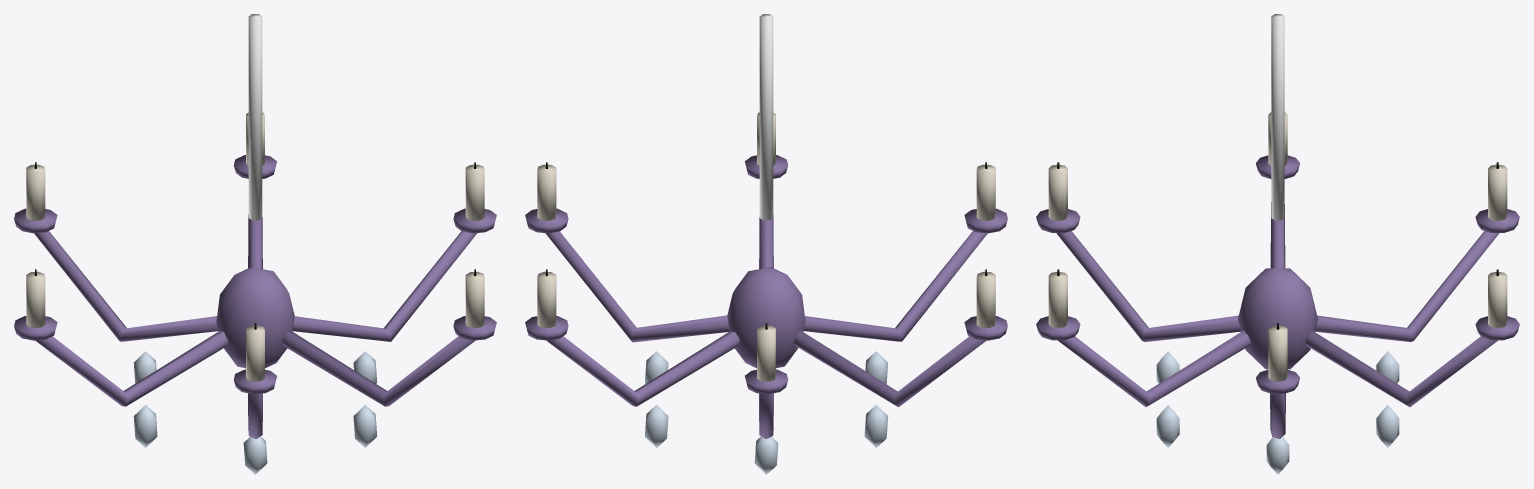
The model's file is ebonwood_chandelier_v0.glb.
The picture shows the model from 3 angles, left to right: view 1: azimuth 30°, elevation 25°; view 2: azimuth 150°, elevation 25°; view 3: azimuth 270°, elevation 25°; orthographic projection.
Parts seen in each view (by area): view 1: ebonwood_chandelier_v0; view 2: ebonwood_chandelier_v0; view 3: ebonwood_chandelier_v0.
Part boxes in pixels (x1,y1,x2,y2): ebonwood_chandelier_v0: [14, 14, 496, 474]; ebonwood_chandelier_v0: [525, 14, 1007, 474]; ebonwood_chandelier_v0: [1036, 14, 1519, 474].
Size of the model in its own units: 1.24 by 1 by 1.09.
